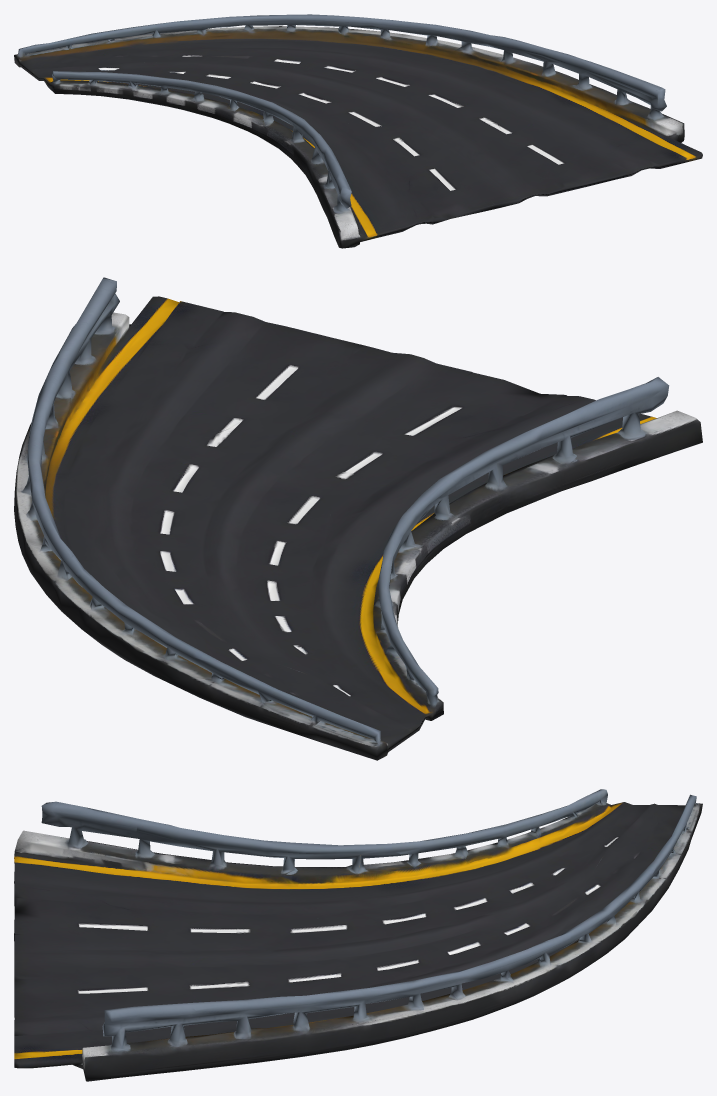
The model's file is threelanecurveleft.glb.
3 views of the same model, one above another, from view 1: azimuth 30°, elevation 25°; view 2: azimuth 150°, elevation 25°; view 3: azimuth 270°, elevation 25° (orthographic). The views are drawn at different scales.
Visible parts, largest first — view 1: tripo_node_b20019aa-49f8-462c-9da6-92113571d4ac; view 2: tripo_node_b20019aa-49f8-462c-9da6-92113571d4ac; view 3: tripo_node_b20019aa-49f8-462c-9da6-92113571d4ac.
Boxes of the visible parts, x1,y1,x2,y2 form: tripo_node_b20019aa-49f8-462c-9da6-92113571d4ac: [14, 14, 702, 248]; tripo_node_b20019aa-49f8-462c-9da6-92113571d4ac: [14, 277, 702, 760]; tripo_node_b20019aa-49f8-462c-9da6-92113571d4ac: [14, 789, 702, 1081].
Bounding box in the file's own units: 0.9075 × 0.1035 × 1.
Materials: 1 (1 with a texture image).
